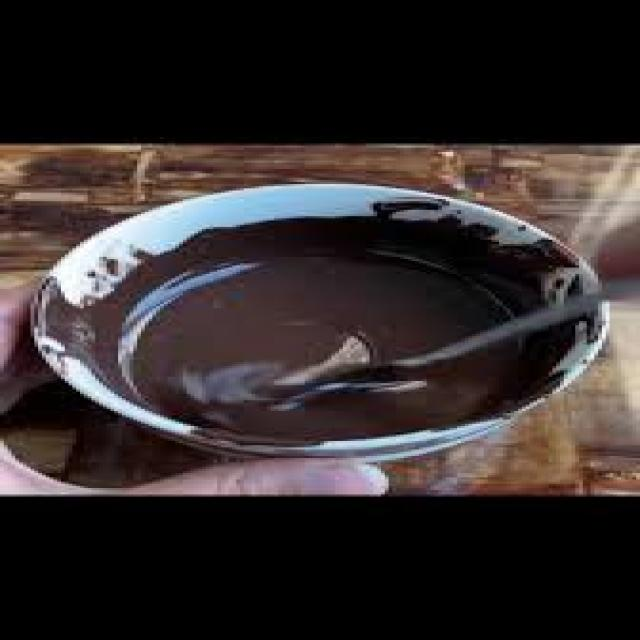Chocolate: (102, 225, 554, 443)
